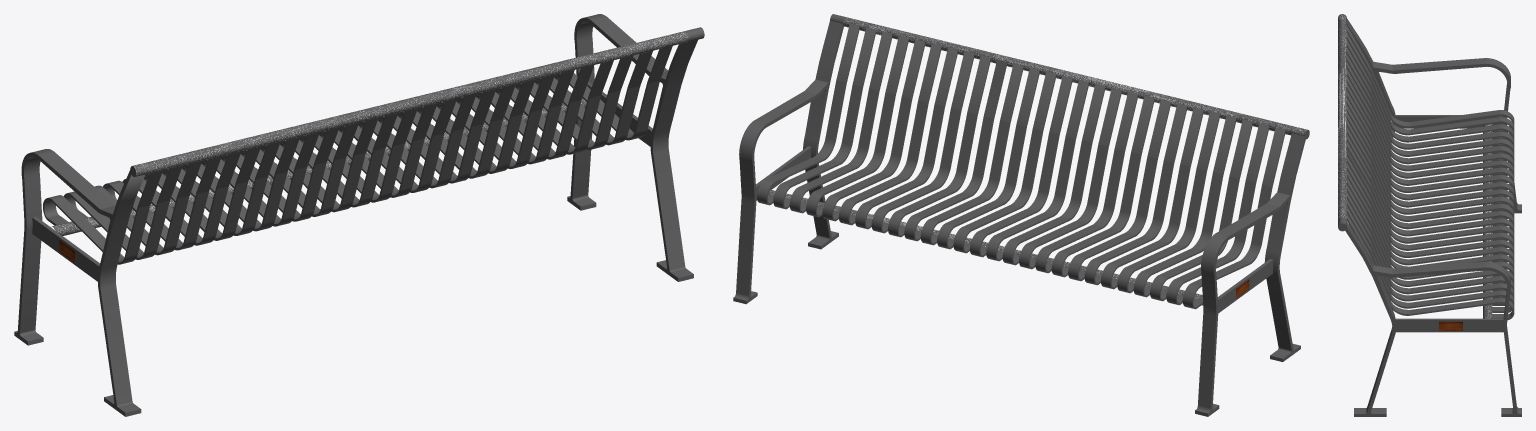
3 views of the same model, side by side, from view 1: azimuth 30°, elevation 25°; view 2: azimuth 150°, elevation 25°; view 3: azimuth 270°, elevation 25° (orthographic). The views are drawn at different scales.
Parts seen in each view (by area): view 1: mesh22_mesh22-geometry, mesh48_mesh48-geometry, mesh47_mesh47-geometry, mesh46_mesh46-geometry, mesh42_mesh42-geometry, mesh30_mesh30-geometry, mesh41_mesh41-geometry, mesh34_mesh34-geometry, mesh24_mesh24-geometry, mesh26_mesh26-geometry, mesh39_mesh39-geometry, mesh28_mesh28-geometry (+18 smaller); view 2: mesh22_mesh22-geometry, mesh44_mesh44-geometry, mesh49_mesh49-geometry, mesh34_mesh34-geometry, mesh38_mesh38-geometry, mesh29_mesh29-geometry, mesh40_mesh40-geometry, mesh31_mesh31-geometry, mesh35_mesh35-geometry, mesh41_mesh41-geometry, mesh25_mesh25-geometry, mesh26_mesh26-geometry (+18 smaller); view 3: mesh22_mesh22-geometry, mesh1_mesh1-geometry, mesh24_mesh24-geometry, mesh37_mesh37-geometry, mesh42_mesh42-geometry, mesh46_mesh46-geometry, mesh34_mesh34-geometry, mesh49_mesh49-geometry, mesh32_mesh32-geometry, mesh40_mesh40-geometry, mesh45_mesh45-geometry, mesh41_mesh41-geometry (+20 smaller).
Part boxes in pixels (left/top/right/bottom): mesh22_mesh22-geometry: left=14, top=14, right=704, bottom=416; mesh48_mesh48-geometry: left=43, top=170, right=162, bottom=264; mesh47_mesh47-geometry: left=63, top=165, right=182, bottom=259; mesh46_mesh46-geometry: left=103, top=156, right=221, bottom=250; mesh42_mesh42-geometry: left=280, top=113, right=398, bottom=207; mesh30_mesh30-geometry: left=437, top=74, right=554, bottom=168; mesh41_mesh41-geometry: left=182, top=137, right=300, bottom=231; mesh34_mesh34-geometry: left=338, top=98, right=456, bottom=192; mesh24_mesh24-geometry: left=535, top=50, right=652, bottom=145; mesh26_mesh26-geometry: left=495, top=60, right=613, bottom=154; mesh39_mesh39-geometry: left=221, top=127, right=339, bottom=221; mesh28_mesh28-geometry: left=476, top=65, right=594, bottom=159; mesh22_mesh22-geometry: left=733, top=14, right=1309, bottom=416; mesh44_mesh44-geometry: left=871, top=51, right=974, bottom=233; mesh49_mesh49-geometry: left=1002, top=83, right=1105, bottom=265; mesh34_mesh34-geometry: left=937, top=67, right=1039, bottom=249; mesh38_mesh38-geometry: left=1101, top=107, right=1203, bottom=289; mesh29_mesh29-geometry: left=839, top=43, right=941, bottom=225; mesh40_mesh40-geometry: left=1051, top=95, right=1154, bottom=277; mesh31_mesh31-geometry: left=920, top=63, right=1023, bottom=245; mesh35_mesh35-geometry: left=970, top=75, right=1072, bottom=257; mesh41_mesh41-geometry: left=1068, top=99, right=1170, bottom=281; mesh25_mesh25-geometry: left=789, top=31, right=892, bottom=213; mesh26_mesh26-geometry: left=806, top=35, right=908, bottom=217; mesh22_mesh22-geometry: left=1338, top=14, right=1521, bottom=416; mesh1_mesh1-geometry: left=1395, top=318, right=1503, bottom=332; mesh24_mesh24-geometry: left=1346, top=206, right=1514, bottom=312; mesh37_mesh37-geometry: left=1346, top=68, right=1514, bottom=175; mesh42_mesh42-geometry: left=1346, top=112, right=1514, bottom=219; mesh46_mesh46-geometry: left=1346, top=47, right=1514, bottom=154; mesh34_mesh34-geometry: left=1346, top=133, right=1514, bottom=240; mesh49_mesh49-geometry: left=1346, top=104, right=1514, bottom=211; mesh32_mesh32-geometry: left=1346, top=148, right=1514, bottom=255; mesh40_mesh40-geometry: left=1346, top=83, right=1514, bottom=190; mesh45_mesh45-geometry: left=1346, top=39, right=1514, bottom=146; mesh41_mesh41-geometry: left=1346, top=76, right=1514, bottom=182.
Bounding box in the file's own units: 0.8695 × 0.3744 × 0.3221.
